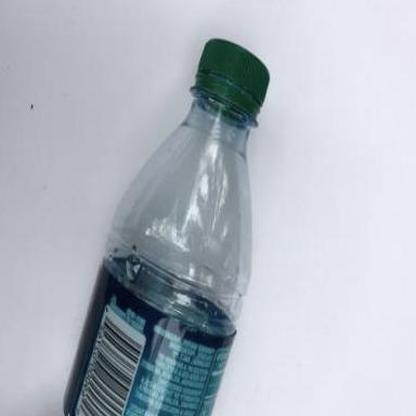plastic bottle: (64, 39, 270, 416)
